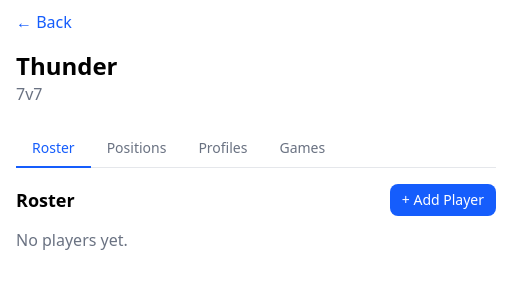
TeamDetail › profiles tab › renders profile list
Expected: the heading "Thunder" is shown, [16,49,118,82]
Click the tab "Profiles". click: (223, 149)
box: [182,130,264,168]
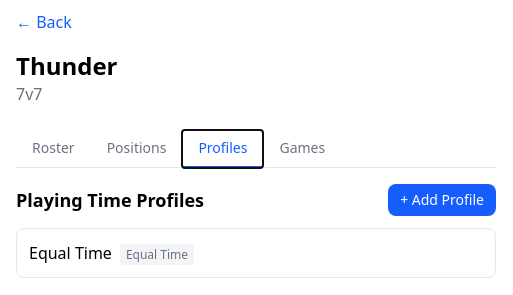
Expected: the heading "Playing Time Profiles" is shown, [16,186,204,214]
